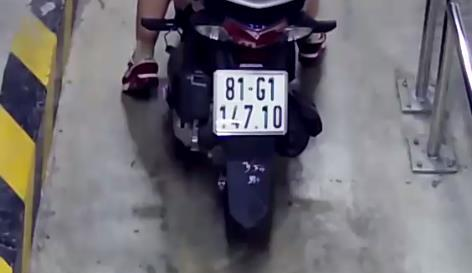lisence: (213, 70, 288, 135)
